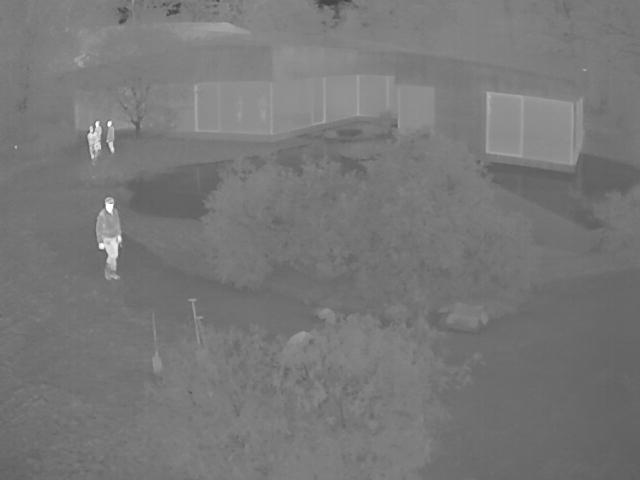person: (97, 196, 122, 284), (107, 120, 117, 155), (89, 125, 97, 161), (95, 120, 104, 152)
